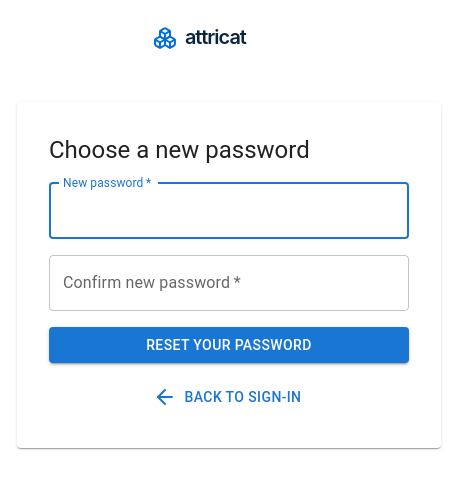
it: PasswordResetConfirmationPage › resets only once both passwords match
Type "secret-1!" into the password field labelled "New password *" at (229, 210), box [49,182,409,238]
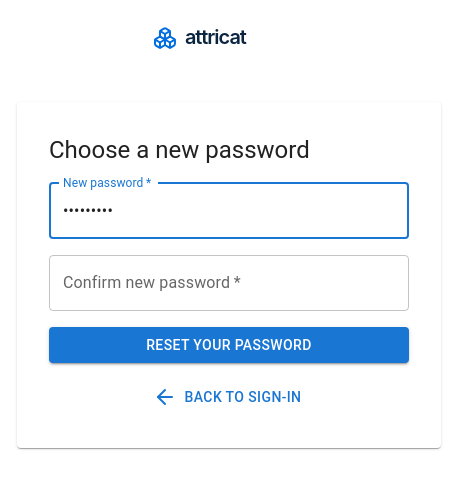
Type "other" into the password field labelled "Confirm new password *" at (229, 282), box [49,254,409,310]
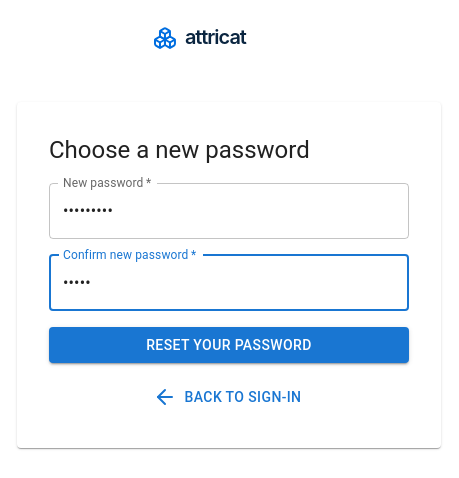
Click the button "Reset your password" at (229, 345), box [49,326,409,363]
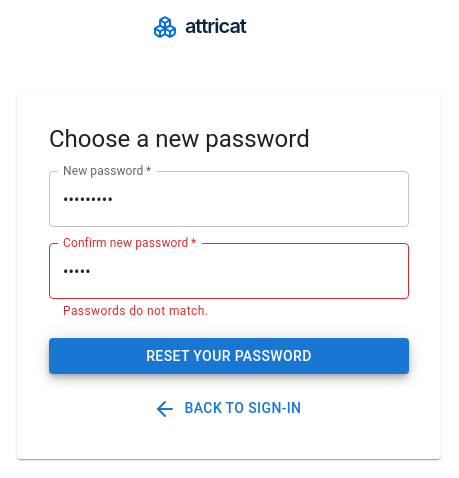
Expected: the text "Passwords do not match." is shown, [63,304,208,318]
Clear the password field labelled "Confirm new password *" at (229, 271), box [49,243,409,299]
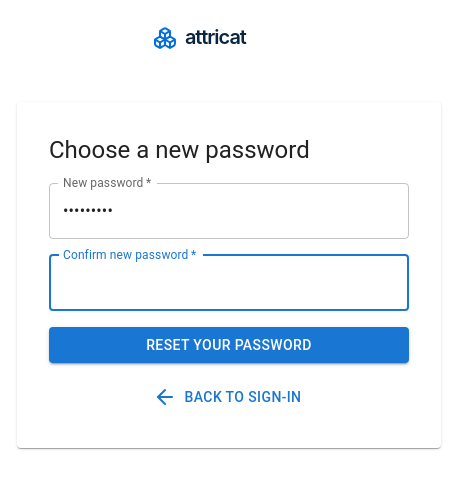
Type "secret-1!" into the password field labelled "Confirm new password *" at (229, 282), box [49,254,409,310]
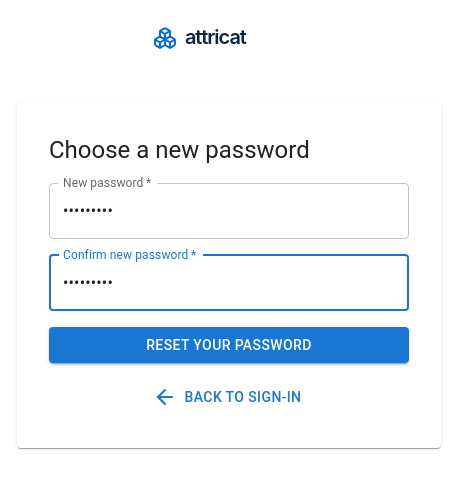
Click the button "Reset your password" at (229, 345), box [49,326,409,363]
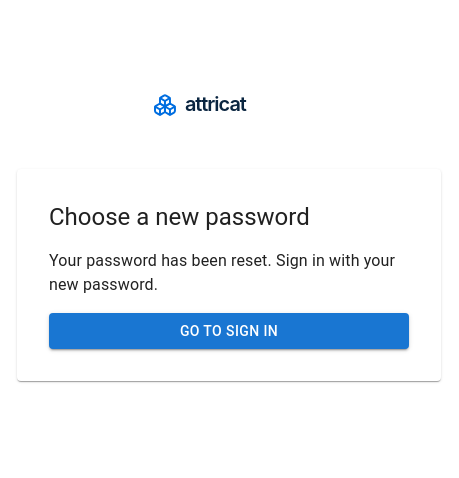
Expected: the text "Your password has been reset" is shown, [49,251,395,294]
